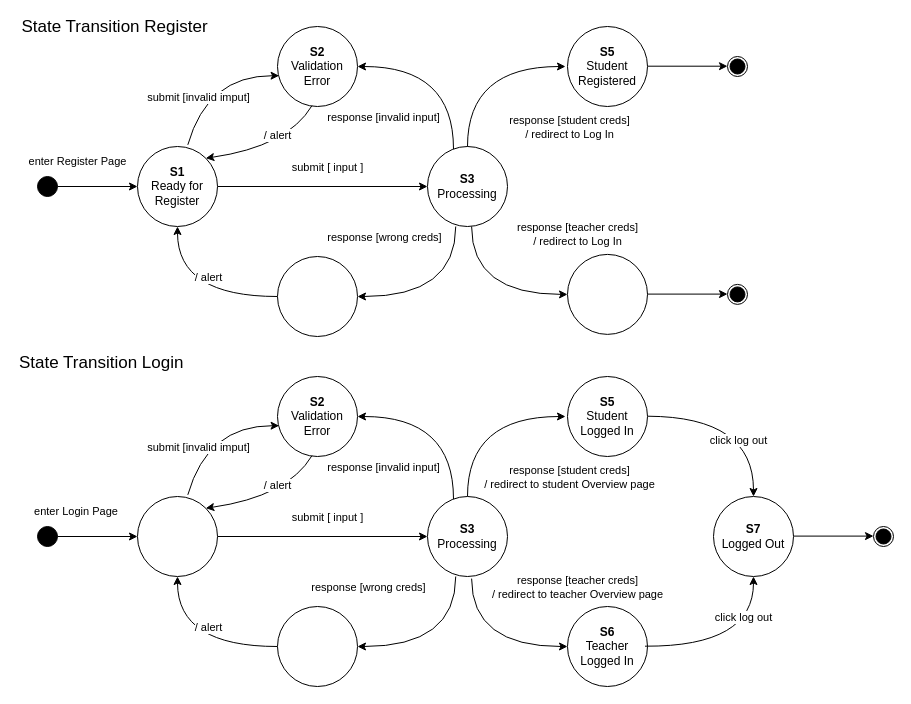
Some shapes in this 911 by 704 pixel diagram are drawn without their labels. The box of each missing label's shape, as (x1, y1, x2, y2) in pixels:
S1 Ready for Login: (136, 496, 218, 576)
S4 Login Error: (276, 606, 358, 686)
S4 Registration Error: (276, 256, 358, 336)
S6 Teacher Registered: (566, 253, 648, 334)
